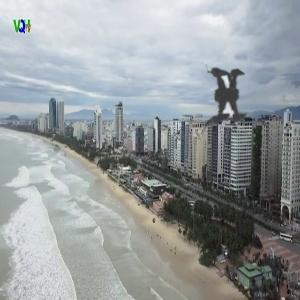drone: (158, 22, 300, 165)
